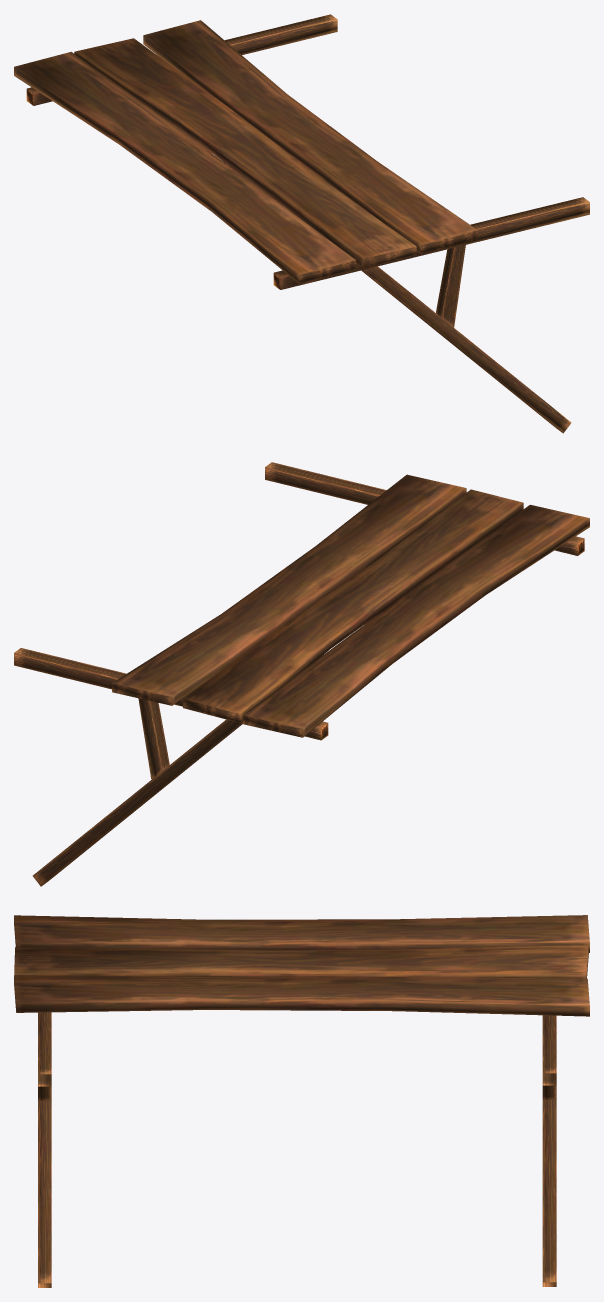
File: INST_SWORDLIGHT_WALLPLATA.fbx
3 views of the same model, one above another, from view 1: azimuth 30°, elevation 25°; view 2: azimuth 150°, elevation 25°; view 3: azimuth 270°, elevation 25° (orthographic).
Parts seen in each view (by area): view 1: INST_SWORDLIGHT_WALLPLATA; view 2: INST_SWORDLIGHT_WALLPLATA; view 3: INST_SWORDLIGHT_WALLPLATA.
Part boxes in pixels (box(x1,y1,x2,y2)): INST_SWORDLIGHT_WALLPLATA: box(14, 14, 589, 433); INST_SWORDLIGHT_WALLPLATA: box(14, 462, 589, 886); INST_SWORDLIGHT_WALLPLATA: box(14, 915, 589, 1287).
Size of the model in its own units: 31131 by 22557 by 49744.
Materials: 2 (2 with a texture image).
